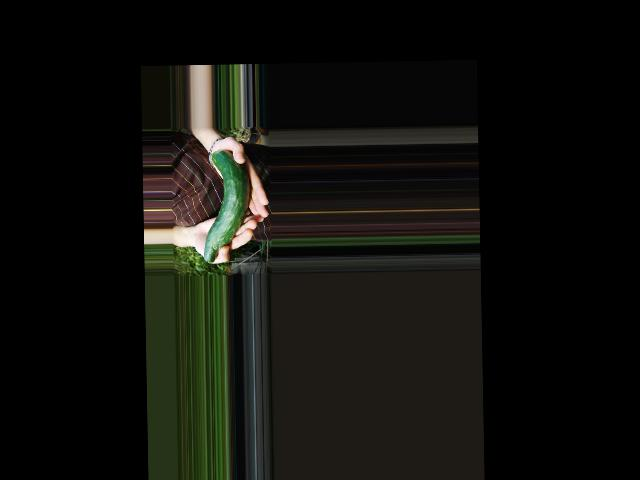cucumber: (202, 148, 251, 262)
